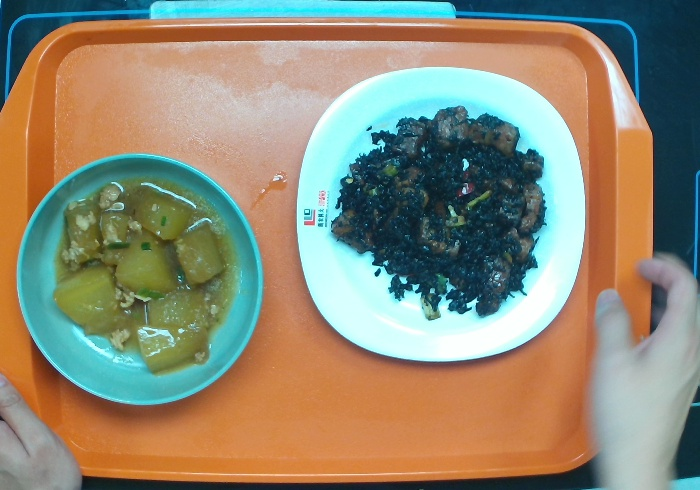ZNLD-Qing_Hua_Yuan_Wan: (7, 150, 273, 421)
ZNLD-Yuan_Jiao_Pan: (288, 59, 592, 368)
